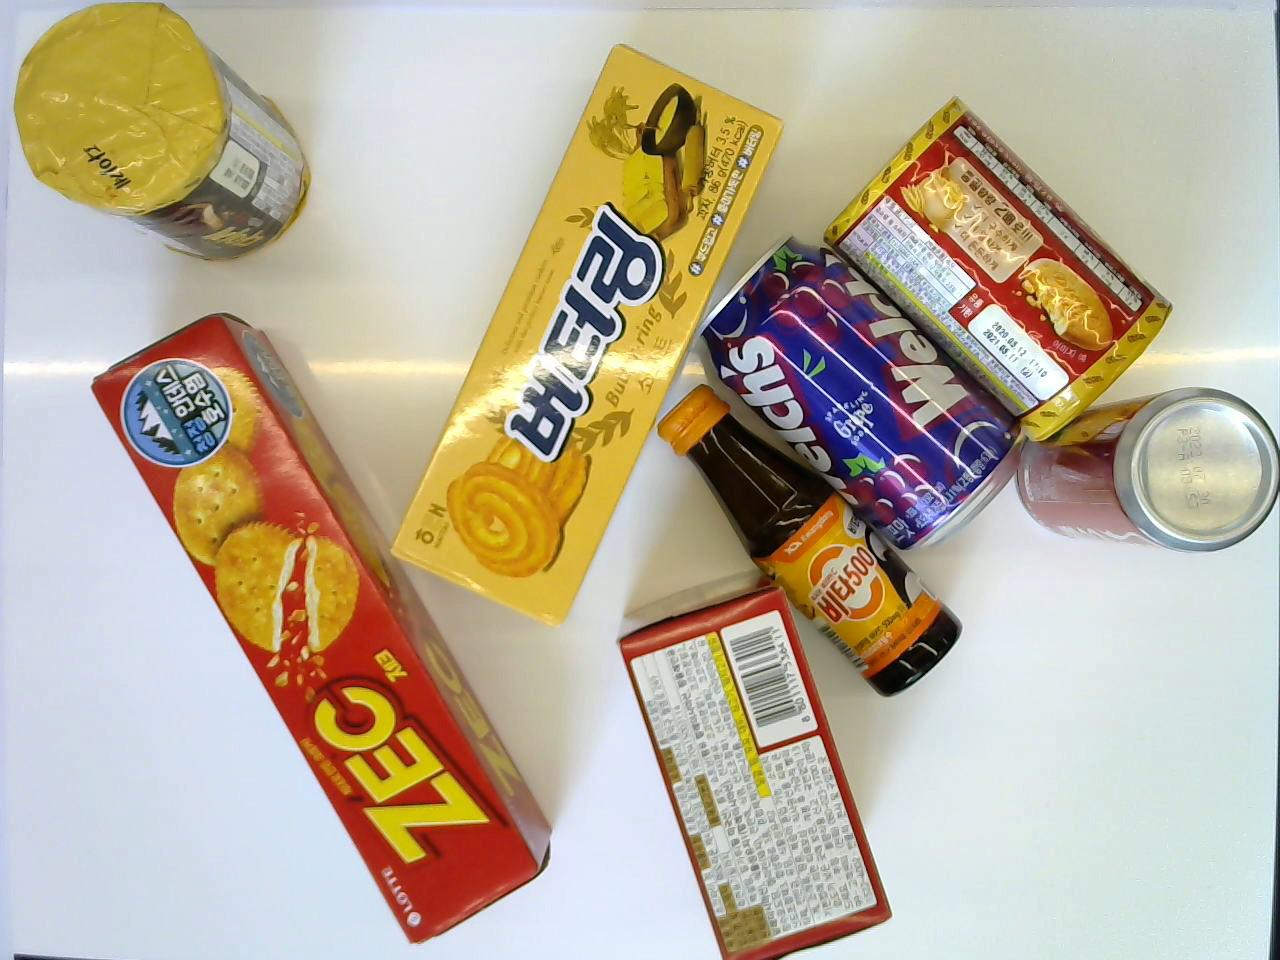buttering: (387, 40, 781, 629)
chocopie: (613, 566, 889, 957)
coke: (1015, 386, 1278, 565)
diget_choco: (12, 2, 308, 265)
diget_ori: (823, 92, 1175, 440)
vita500: (659, 383, 964, 697)
welchs: (690, 234, 1031, 543)
zec: (86, 312, 554, 949)
